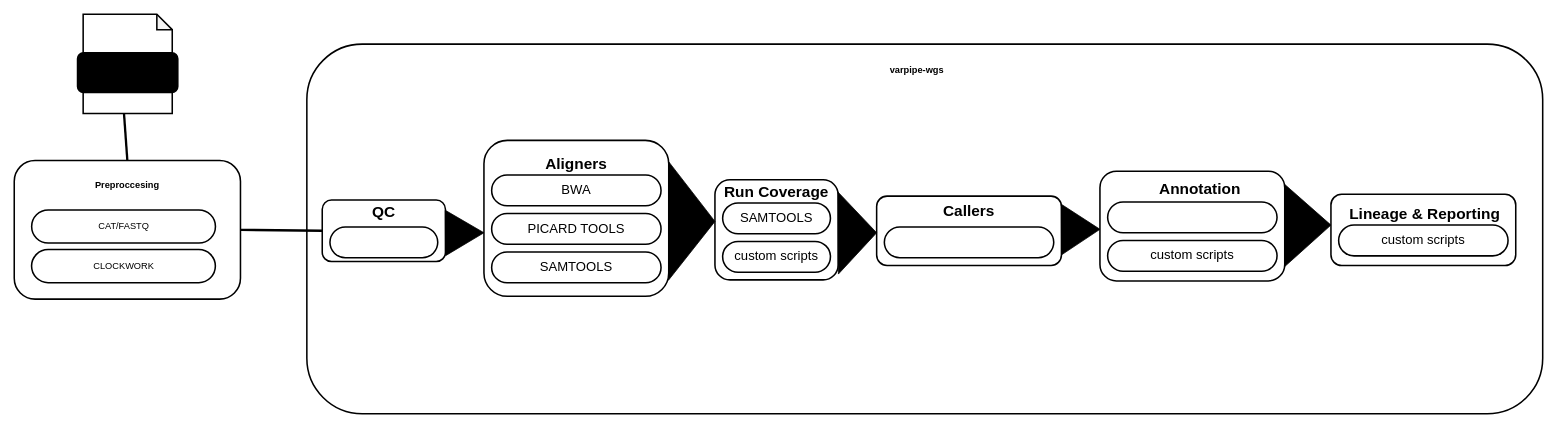
The diagram is 1556 pixels wide and 427 high, and some of its shapes have lost their labels. The shapes that lost their labels are listed below. From the top down, each one's centre as x and y in pixels, then its label:
At point (127, 72): "Fastqs".
At point (1191, 217): "SNPEFF".
At point (383, 242): "TRIMMOMATIC".
At point (968, 242): "GATK4".
